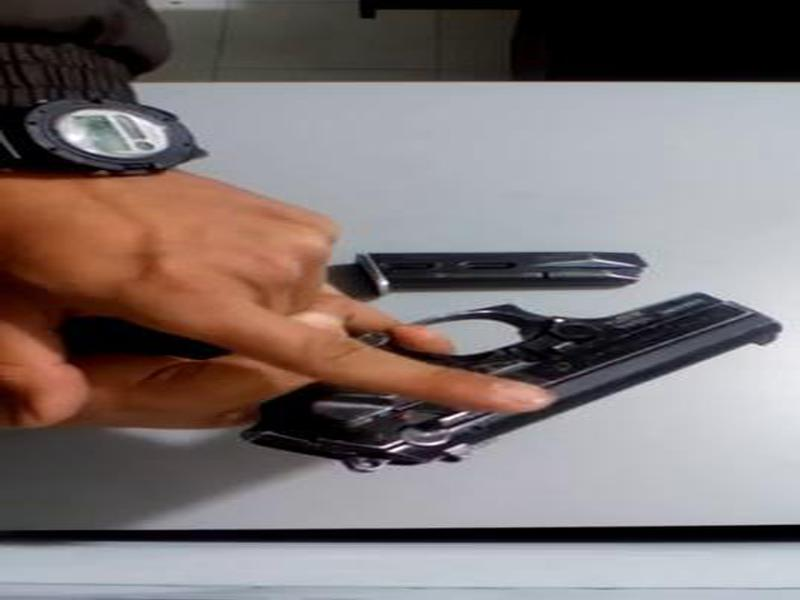Pistola: (217, 250, 797, 484)
